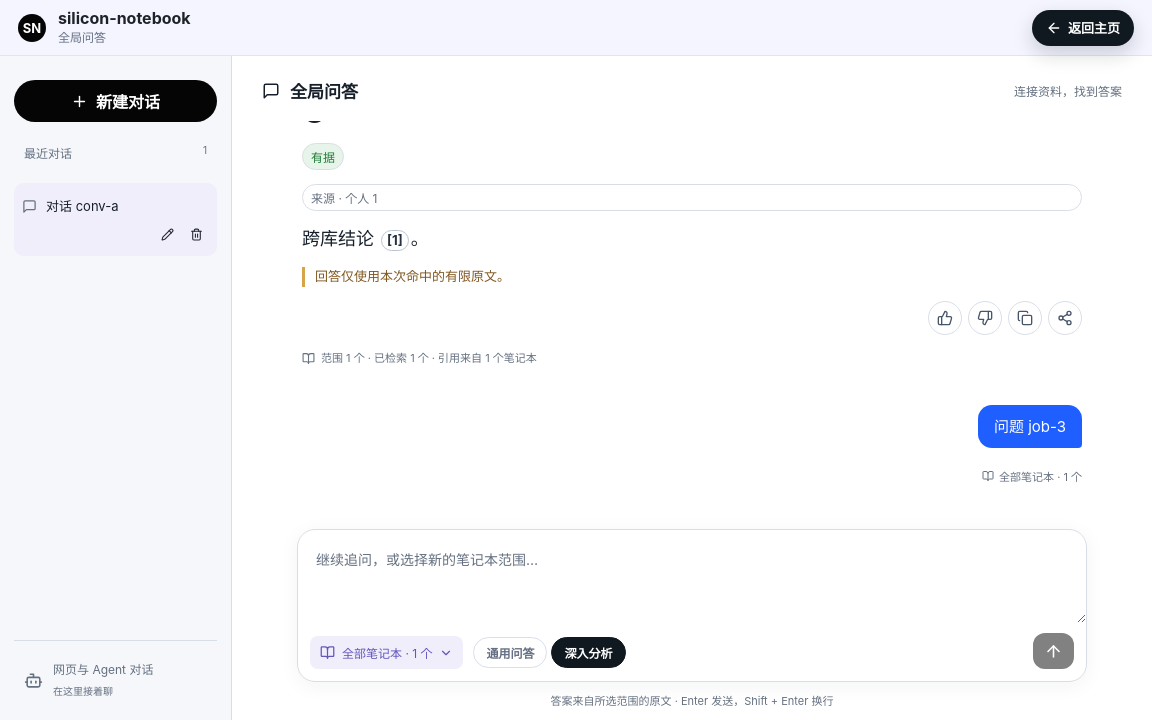
Test: 五态之 behind：水位停在更早那条作业，说清这条回答**还没**进链接
(page scrolled)
Click the button named "分享到这条回答" at (1065, 318), box [1048, 301, 1082, 335]
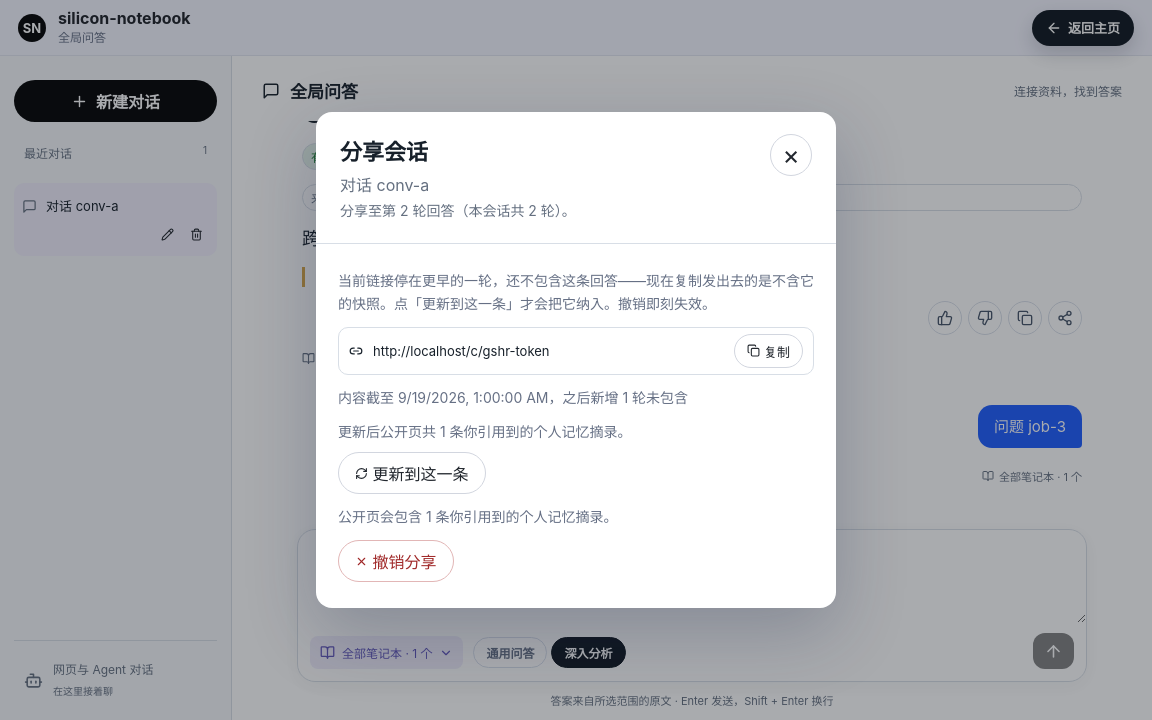
Now the heading "分享会话" is shown, box [340, 139, 428, 165]
Now the field named "分享链接" is shown, box [371, 342, 726, 360]
Now the text "还不包含这条回答" is shown, box [338, 272, 814, 312]
Click the button "更新到这一条" at (412, 473), box [338, 452, 486, 494]
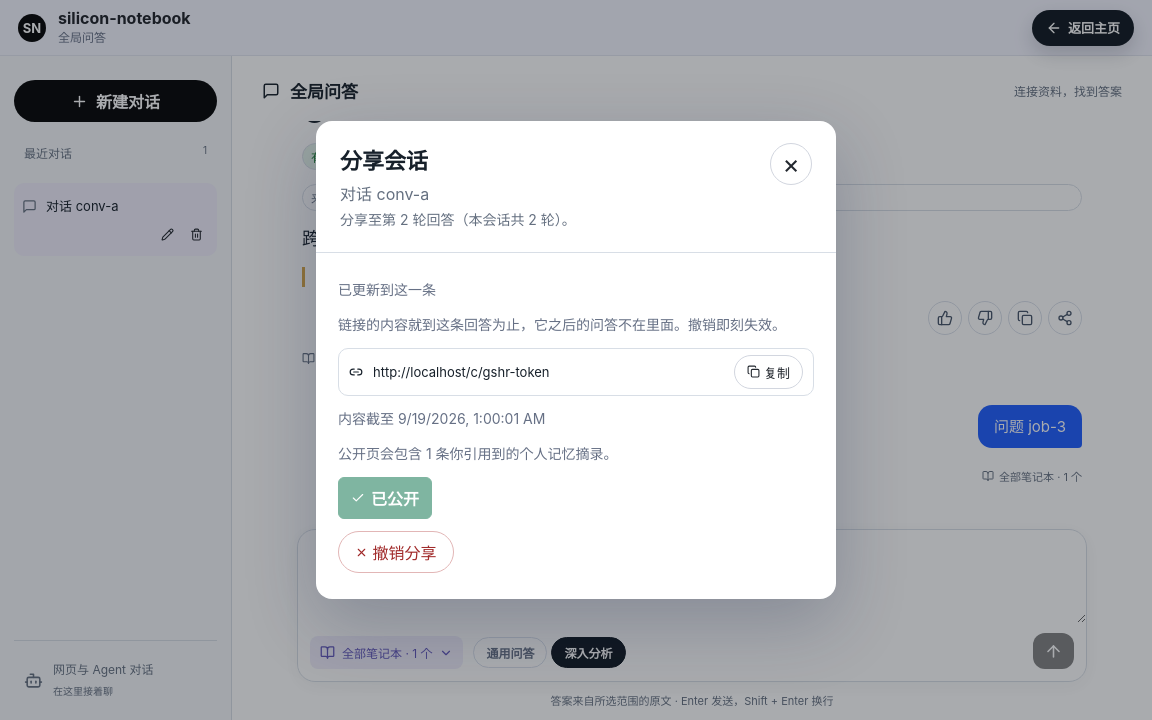
Now the text "已更新到这一条" is shown, box [338, 282, 436, 298]
